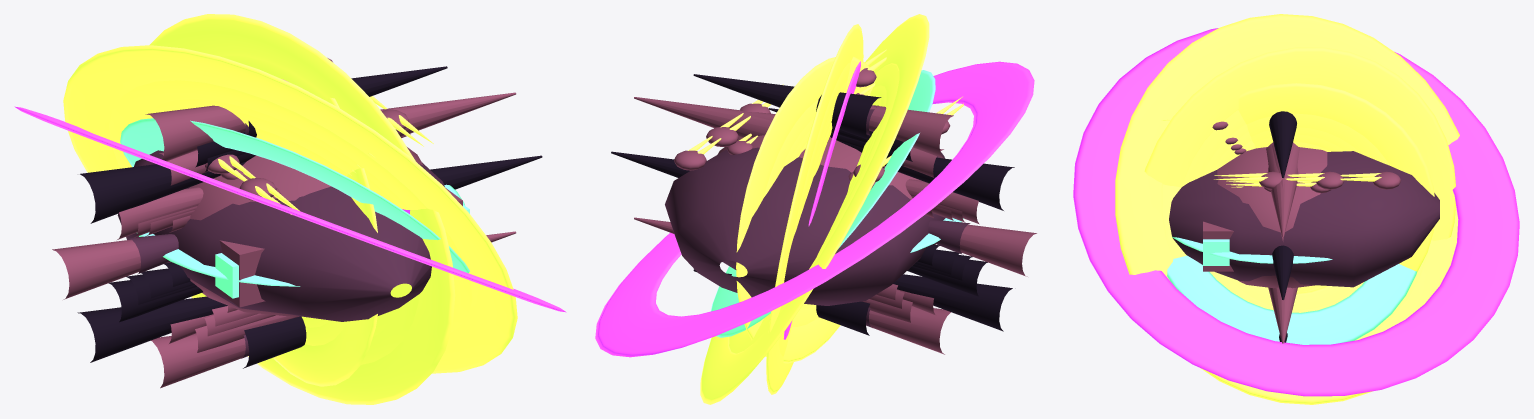
File: orbital-hq-void.gltf
The picture shows the model from 3 angles, left to right: view 1: azimuth 30°, elevation 25°; view 2: azimuth 150°, elevation 25°; view 3: azimuth 270°, elevation 25°; orthographic projection. The views are drawn at different scales.
Visible parts, largest first — view 1: rotor_boss_3 (×5), boss_hull, rotor_boss_2 (×2), boss_spire_5 (×4), rotor_terraform_3, rotor_boss_1 (×2), boss_spire_6 (×3), boss_spire_4 (×2), rotor_boss_4, boss_spire_7, boss_armor_core, boss_spire_8 (+10 smaller); view 2: boss_hull, rotor_boss_4, rotor_boss_3 (×3), rotor_boss_1 (×2), rotor_boss_2 (×2), boss_spire_5 (×4), boss_spire_6 (×2), rotor_terraform_3, boss_spire_7, boss_spire_4 (×2), boss_spire_3, boss_spire_8 (+10 smaller); view 3: rotor_boss_4, rotor_boss_3 (×4), boss_hull, rotor_boss_2 (×4), rotor_boss_1 (×4), rotor_terraform_3, boss_armor_core, boss_spire_2, boss_spire_3, rotor_yard, boss_spire_10, boss_spire_1 (+2 smaller).
Part boxes in pixels (bbox=[...]): rotor_boss_3 (×5): bbox=[63, 45, 517, 373]; boss_hull: bbox=[117, 150, 444, 321]; rotor_boss_2 (×2): bbox=[149, 14, 455, 404]; boss_spire_5 (×4): bbox=[80, 164, 220, 322]; rotor_terraform_3: bbox=[120, 118, 469, 273]; rotor_boss_1 (×2): bbox=[273, 97, 377, 386]; boss_spire_6 (×3): bbox=[52, 239, 299, 352]; boss_spire_4 (×2): bbox=[117, 105, 245, 239]; rotor_boss_4: bbox=[14, 106, 566, 312]; boss_spire_7: bbox=[77, 296, 227, 362]; boss_armor_core: bbox=[189, 147, 423, 316]; boss_spire_8: bbox=[151, 333, 245, 388]; boss_hull: bbox=[665, 147, 945, 305]; rotor_boss_4: bbox=[595, 61, 1034, 357]; rotor_boss_3 (×3): bbox=[700, 14, 929, 404]; rotor_boss_1 (×2): bbox=[736, 56, 876, 363]; rotor_boss_2 (×2): bbox=[766, 24, 863, 394]; boss_spire_5 (×4): bbox=[885, 157, 1014, 296]; boss_spire_6 (×2): bbox=[862, 224, 1036, 322]; rotor_terraform_3: bbox=[710, 70, 935, 337]; boss_spire_7: bbox=[893, 274, 1012, 331]; boss_spire_4 (×2): bbox=[869, 105, 979, 224]; boss_spire_3: bbox=[693, 74, 881, 139]; boss_spire_8: bbox=[869, 306, 950, 354]; rotor_boss_4: bbox=[1073, 28, 1519, 396]; rotor_boss_3 (×4): bbox=[1115, 14, 1459, 404]; boss_hull: bbox=[1169, 151, 1439, 287]; rotor_boss_2 (×4): bbox=[1144, 47, 1455, 292]; rotor_boss_1 (×4): bbox=[1238, 83, 1434, 272]; rotor_terraform_3: bbox=[1167, 255, 1416, 344]; boss_armor_core: bbox=[1217, 147, 1327, 288]; boss_spire_2: bbox=[1266, 142, 1299, 236]; boss_spire_3: bbox=[1269, 111, 1296, 177]; rotor_yard: bbox=[1172, 236, 1332, 263]; boss_spire_10: bbox=[1268, 287, 1297, 343]; boss_spire_1: bbox=[1272, 245, 1293, 299].
Bounding box in the file's own units: 101 × 79.24 × 104.
